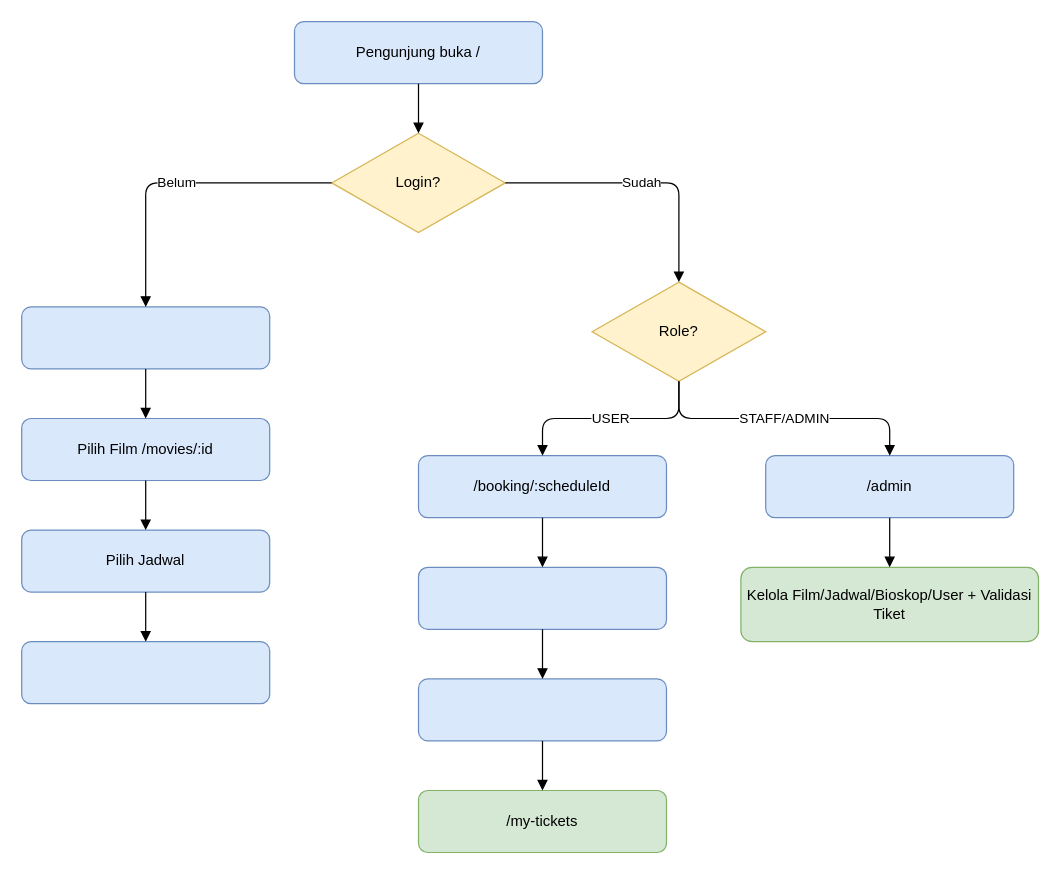
Image size: 1060x874. Some labels were removed from this diagram. The shapes that lost their labels are listed below. From the top down, each one's centre as x and y in pixels, then its label:
At point 145,337: "Lihat Katalog /movies".
At point 541,597: "/checkout".
At point 145,672: "Login /register".
At point 541,709: "Xendit Invoice".
